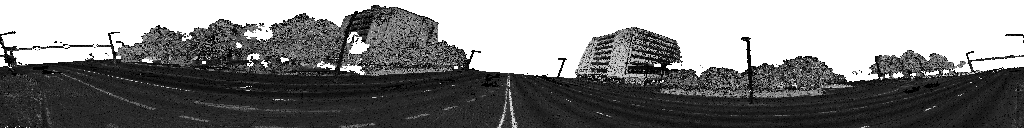gantry_sign_pole: (0, 31, 40, 69), (965, 51, 1023, 71)
light_pole: (333, 11, 373, 84), (741, 38, 753, 105), (461, 51, 480, 73), (660, 65, 671, 90), (875, 56, 884, 86), (556, 59, 566, 80), (914, 58, 925, 77)
